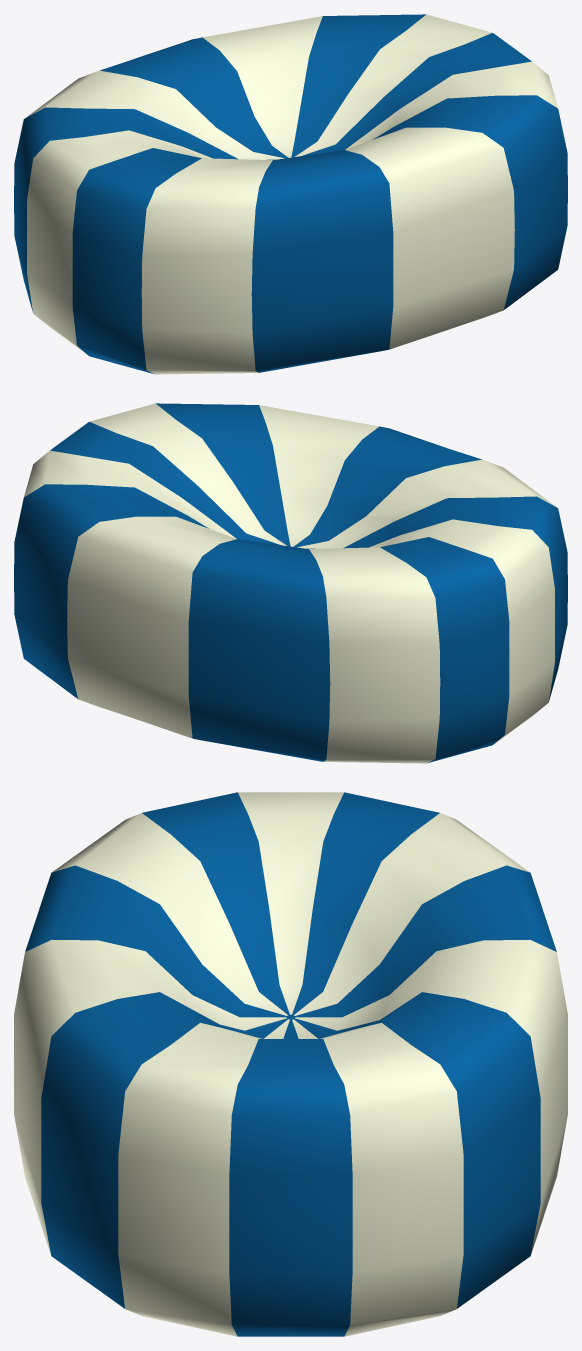
File: candy_hard_17.fbx
3 views of the same model, one above another, from view 1: azimuth 30°, elevation 25°; view 2: azimuth 150°, elevation 25°; view 3: azimuth 270°, elevation 25° (orthographic). The views are drawn at different scales.
Parts seen in each view (by area): view 1: c_h_17; view 2: c_h_17; view 3: c_h_17.
Part boxes in pixels (left/top/right/bottom): c_h_17: left=14, top=14, right=567, bottom=374; c_h_17: left=14, top=403, right=567, bottom=763; c_h_17: left=14, top=792, right=567, bottom=1336.
Bounding box in the file's own units: 156 × 57.64 × 115.
